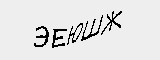Е: (51, 26, 66, 49)
Ж: (101, 10, 123, 33)
Ш: (80, 14, 103, 44)
Э: (32, 24, 49, 50)
Ю: (64, 21, 84, 46)
